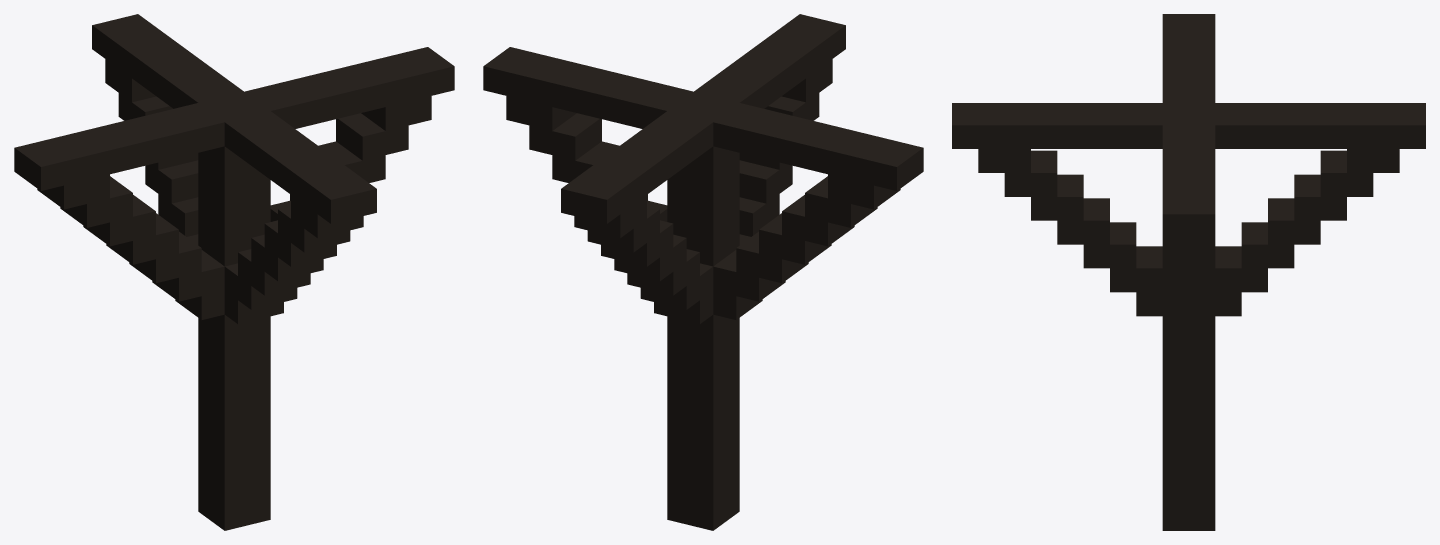
Rendered from tavern-53-pillar_pillar2.obj.
The picture shows the model from 3 angles, left to right: view 1: azimuth 30°, elevation 25°; view 2: azimuth 150°, elevation 25°; view 3: azimuth 270°, elevation 25°; orthographic projection.
Visible parts, largest first — view 1: pillar_pillar2; view 2: pillar_pillar2; view 3: pillar_pillar2.
Boxes of the visible parts, left/top/right/bottom form: pillar_pillar2: left=14, top=14, right=454, bottom=530; pillar_pillar2: left=483, top=14, right=923, bottom=530; pillar_pillar2: left=952, top=14, right=1425, bottom=530.
Bounding box in the file's own units: 1.8 × 1.7 × 1.8.
1 material, 1 textured.
